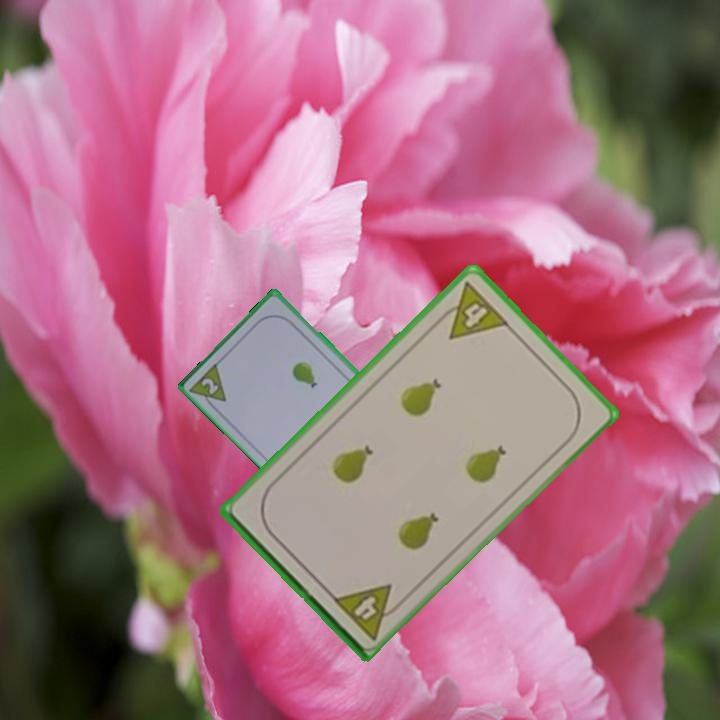2p: (187, 358, 230, 415)
4p: (431, 277, 512, 343), (329, 580, 407, 643)
